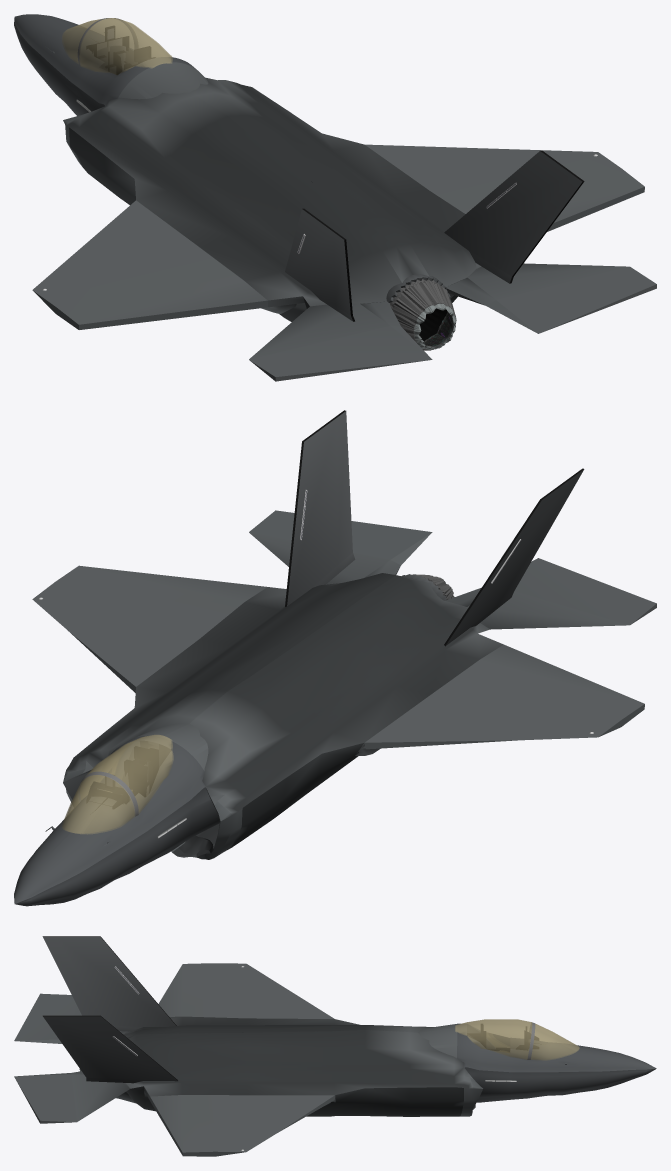
The picture shows the model from 3 angles, top to bottom: view 1: azimuth 30°, elevation 25°; view 2: azimuth 150°, elevation 25°; view 3: azimuth 270°, elevation 25°; orthographic projection. The views are drawn at different scales.
Visible parts, largest first — view 1: body|F35_up_text, body|F35_back, body|F135_engine, body|Darker_back, body|Darkness, body|glass, body|TVC_inside, body|f35_tail, body|base, body|tail, body|Brownish_engine_color, body|Rubber.001; view 2: body|F35_up_text, body|Darker_back, body|F135_engine, body|F35_back, body|glass, body|Darkness, body|f35_tail, body|base, body|tail; view 3: body|F35_up_text, body|F135_engine, body|Darker_back, body|F35_back, body|Darkness, body|glass, body|base, body|tail.
Part boxes in pixels (x1,y1,x2,y2): body|F35_up_text: [32, 62, 644, 324]; body|F35_back: [249, 263, 656, 376]; body|F135_engine: [285, 151, 582, 321]; body|Darker_back: [14, 14, 196, 115]; body|Darkness: [33, 47, 644, 329]; body|glass: [62, 18, 172, 75]; body|TVC_inside: [389, 279, 456, 350]; body|f35_tail: [250, 274, 656, 381]; body|base: [86, 26, 155, 74]; body|tail: [302, 150, 584, 321]; body|Brownish_engine_color: [414, 303, 456, 350]; body|Rubber.001: [137, 48, 447, 341]; body|F35_up_text: [17, 565, 644, 903]; body|Darker_back: [14, 735, 219, 906]; body|F135_engine: [287, 411, 583, 645]; body|F35_back: [249, 510, 656, 629]; body|glass: [62, 734, 173, 834]; body|Darkness: [45, 631, 644, 859]; body|f35_tail: [63, 568, 656, 857]; body|base: [86, 746, 158, 810]; body|tail: [285, 410, 583, 646]; body|F35_up_text: [122, 963, 653, 1152]; body|F135_engine: [43, 937, 177, 1083]; body|Darker_back: [457, 1023, 656, 1102]; body|F35_back: [14, 993, 129, 1122]; body|Darkness: [116, 1063, 574, 1156]; body|glass: [455, 1019, 579, 1060]; body|base: [467, 1024, 538, 1051]; body|tail: [42, 936, 177, 1080].
Size of the model in its own units: 10.87 by 3.66 by 15.67.
24 materials, 2 textured.
